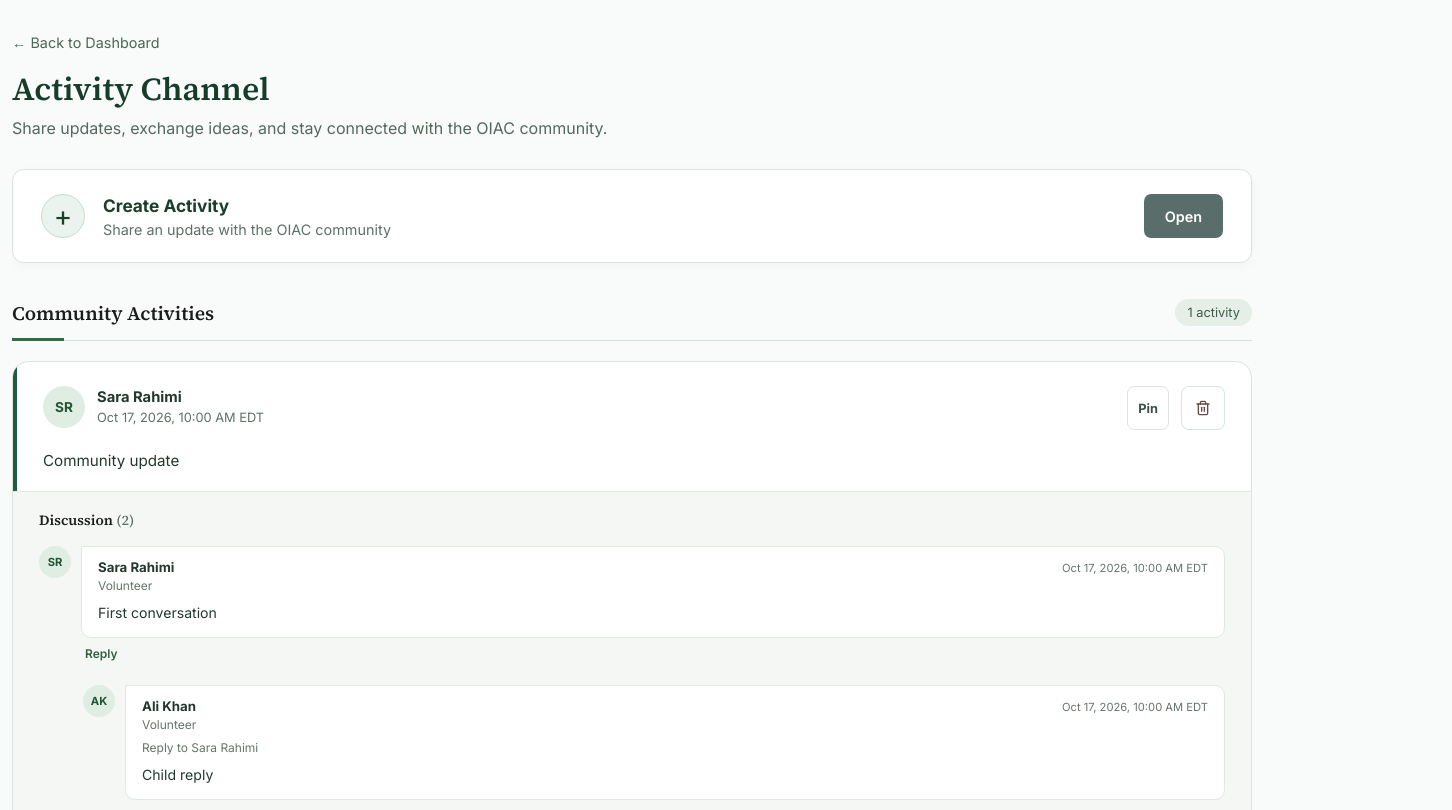
it: child replies cannot open another reply composer while the root still accepts replies
Expected: the text "Child reply" is shown, left=142, top=766, right=213, bottom=783
Click the button with aria-label "Reply to Sara Rahimi".
click(101, 654)  # box left=81, top=638, right=122, bottom=669
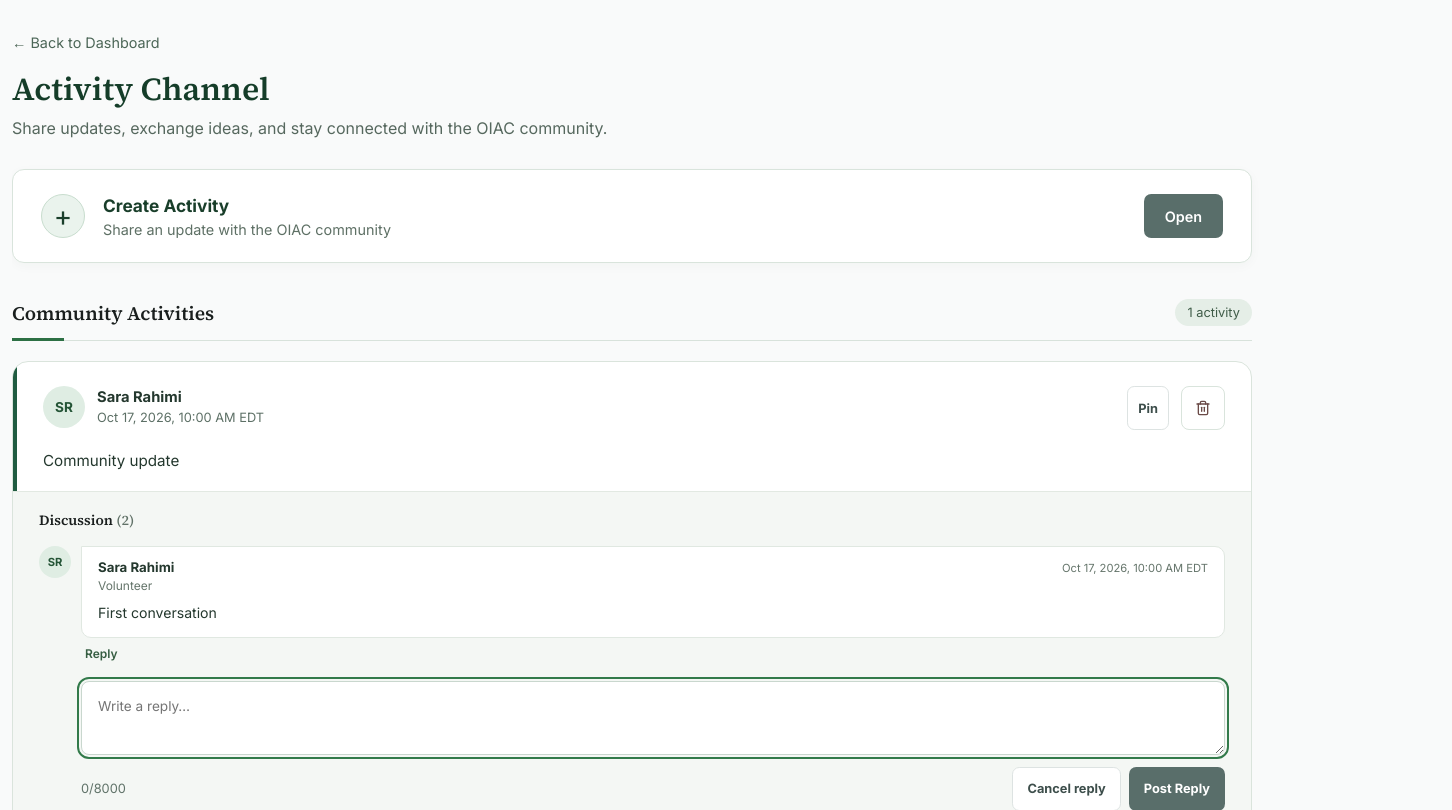
Type "Reply text" into the text box named "Reply content".
click(653, 718); type("Reply text")  # box left=81, top=681, right=1225, bottom=755
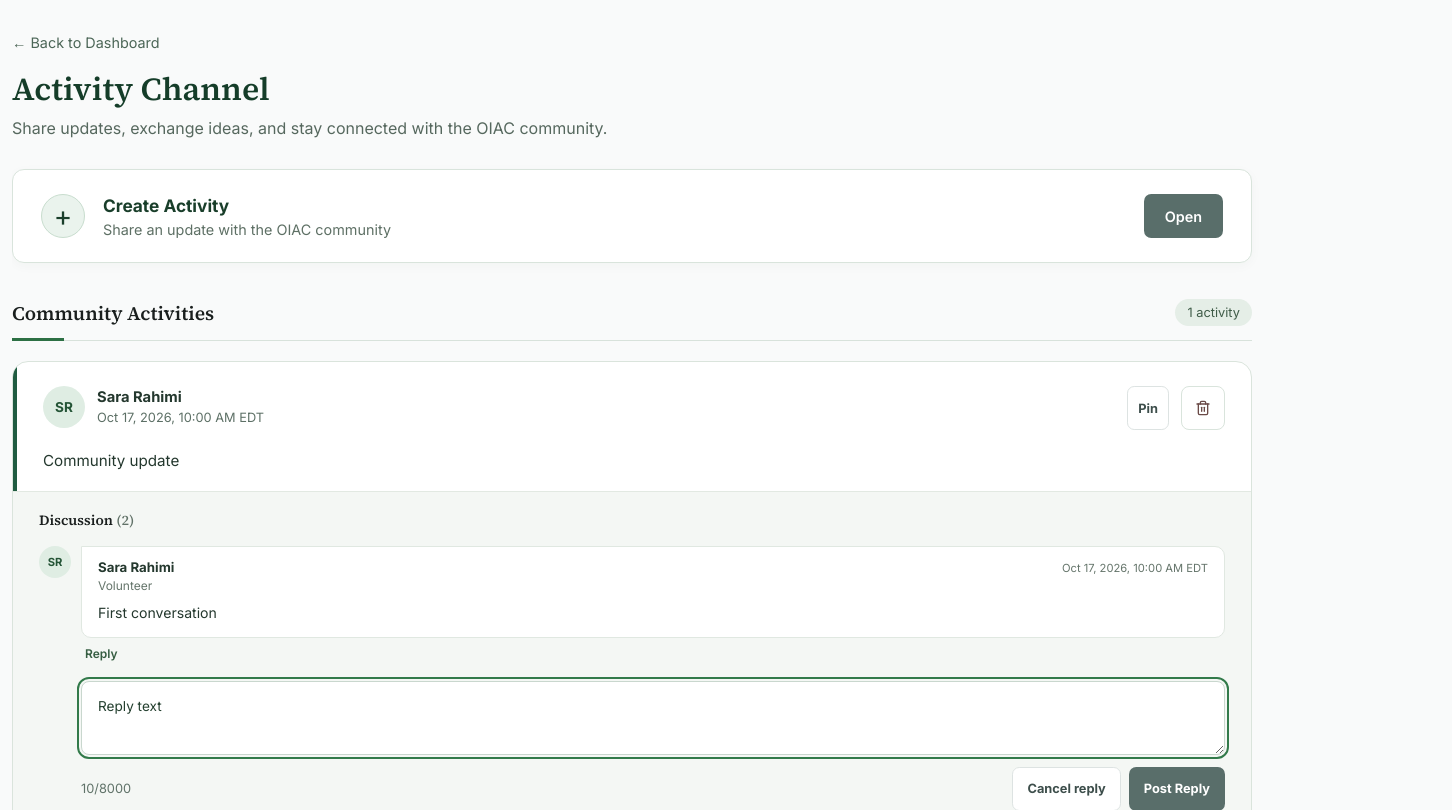
Click the button "Post Reply".
click(1177, 789)  # box left=1129, top=767, right=1225, bottom=809
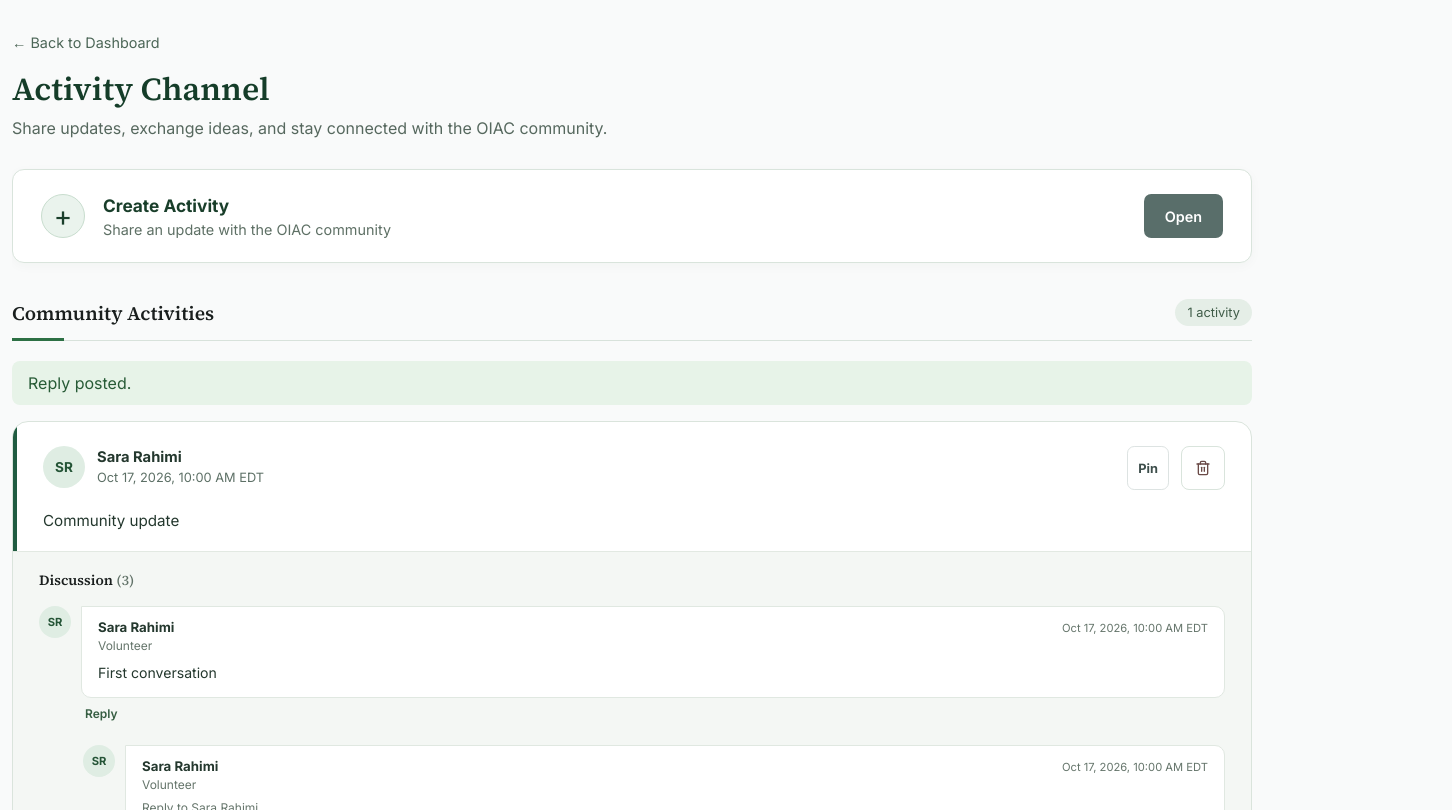
Now the text "Reply posted." is shown, box left=12, top=361, right=1252, bottom=405
